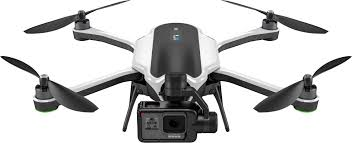Drone: (5, 5, 351, 141)
